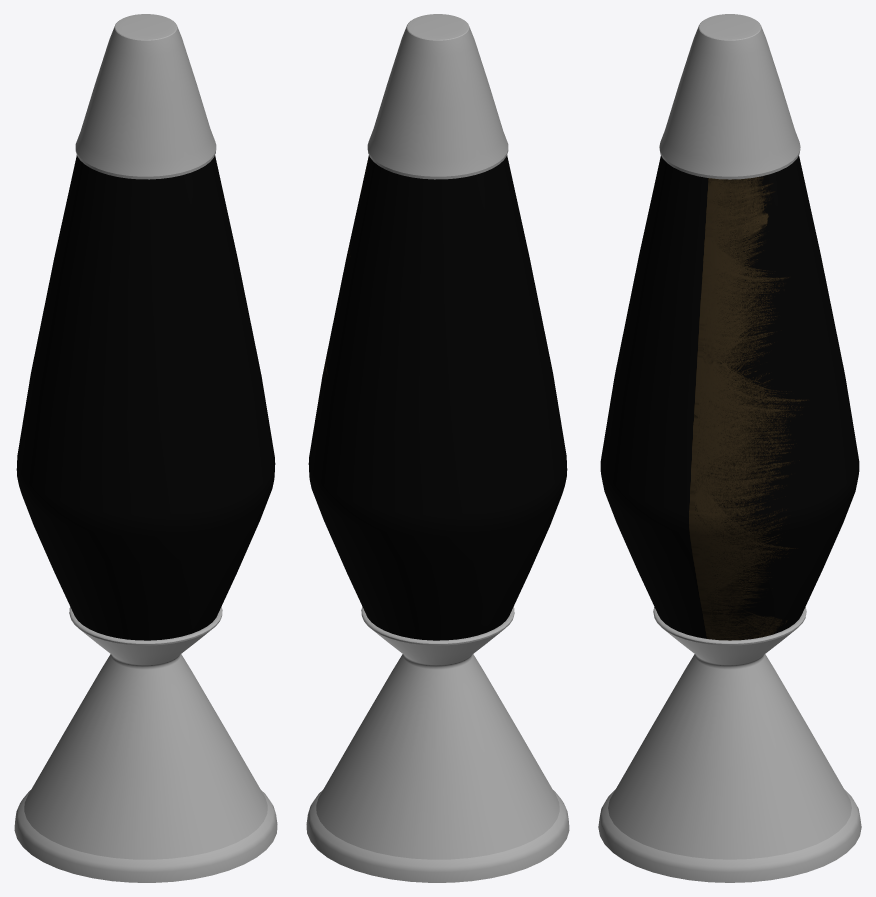
File: Lava lamp.fbx
3 renders of one model, left to right at view 1: azimuth 30°, elevation 25°; view 2: azimuth 150°, elevation 25°; view 3: azimuth 270°, elevation 25°, orthographic.
Parts seen in each view (by area): view 1: polySurface2; view 2: polySurface2; view 3: polySurface2.
Boxes of the visible parts, box(x1,y1,x2,y2) form: polySurface2: box(14, 14, 277, 882); polySurface2: box(306, 14, 569, 882); polySurface2: box(598, 14, 861, 882).
Size of the model in its own units: 13.32 by 44.73 by 13.32.
